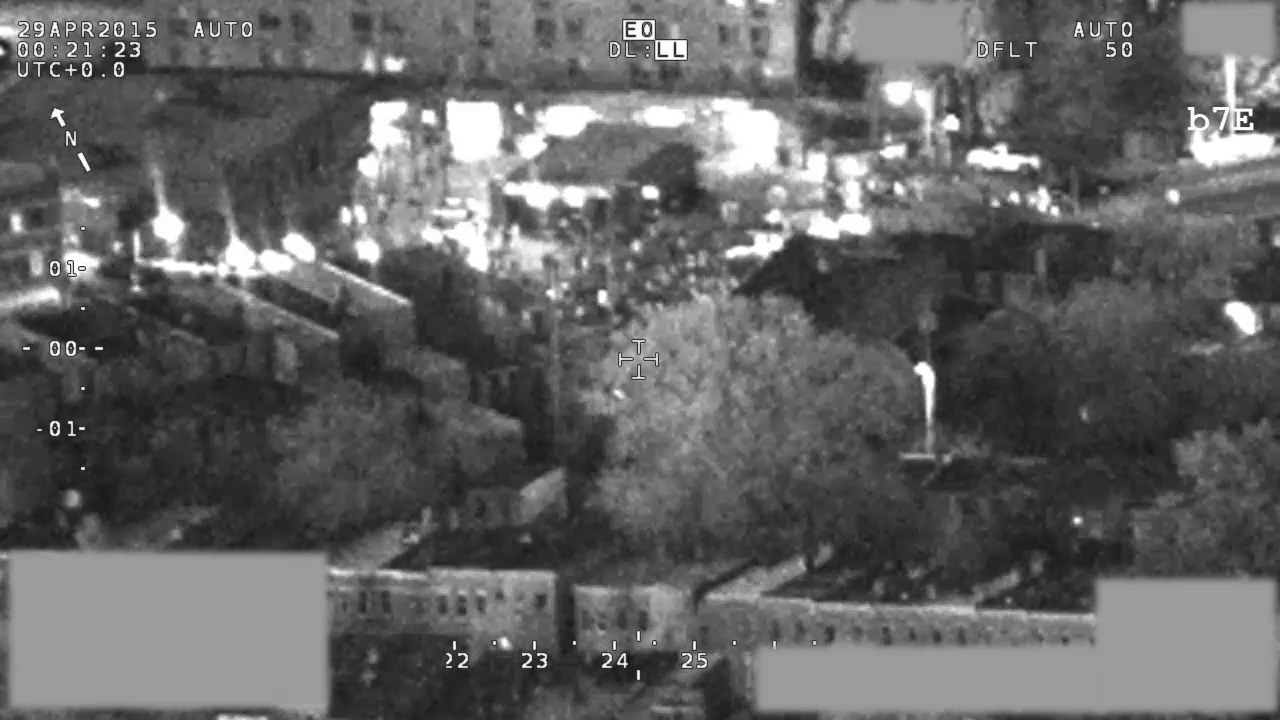vehicle: (1185, 124, 1280, 172), (747, 205, 834, 255), (965, 137, 1047, 175)
